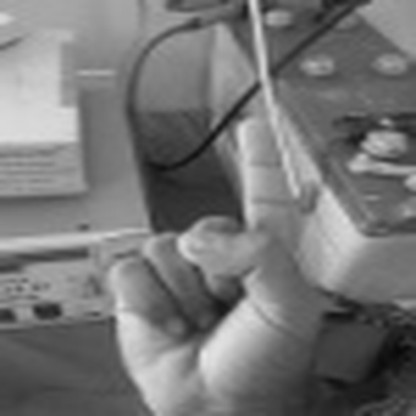d: (98, 106, 312, 416)
